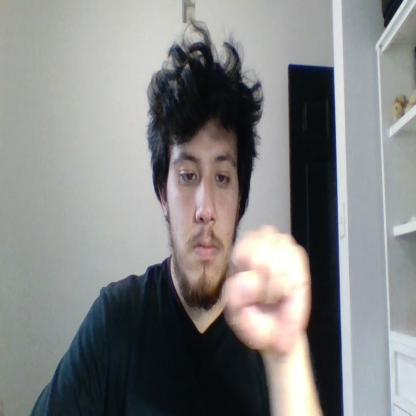S: (222, 224, 311, 349)
